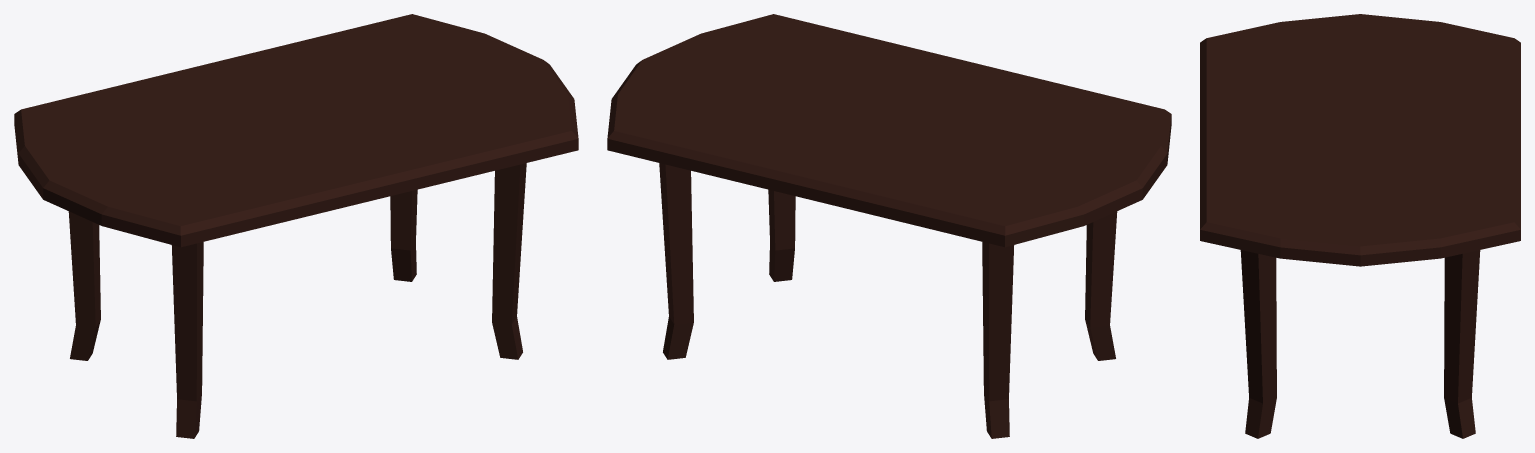
File: Table_01.obj
The picture shows the model from 3 angles, left to right: view 1: azimuth 30°, elevation 25°; view 2: azimuth 150°, elevation 25°; view 3: azimuth 270°, elevation 25°; orthographic projection. The views are drawn at different scales.
Visible parts, largest first — view 1: Table_Cube.028; view 2: Table_Cube.028; view 3: Table_Cube.028.
Part boxes in pixels (left/top/right/bottom): Table_Cube.028: left=14, top=14, right=578, bottom=438; Table_Cube.028: left=607, top=14, right=1171, bottom=438; Table_Cube.028: left=1200, top=14, right=1520, bottom=438.
Size of the model in its own units: 21.91 by 9.73 by 12.47.
